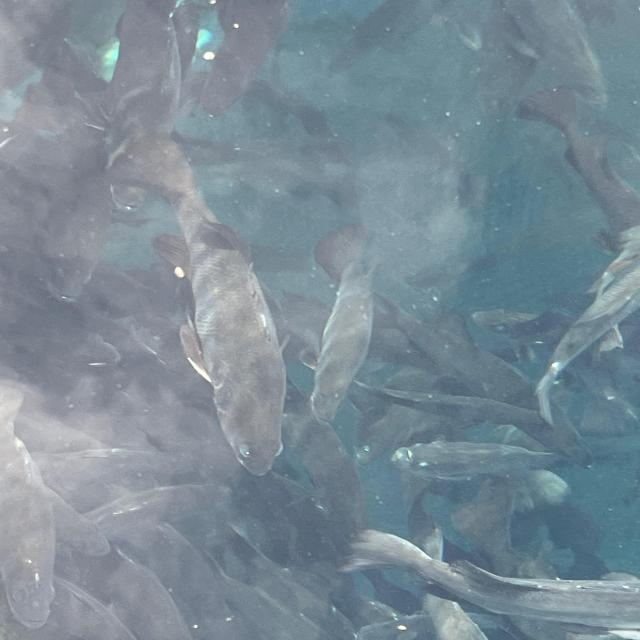ikan: (131, 186, 343, 506)
